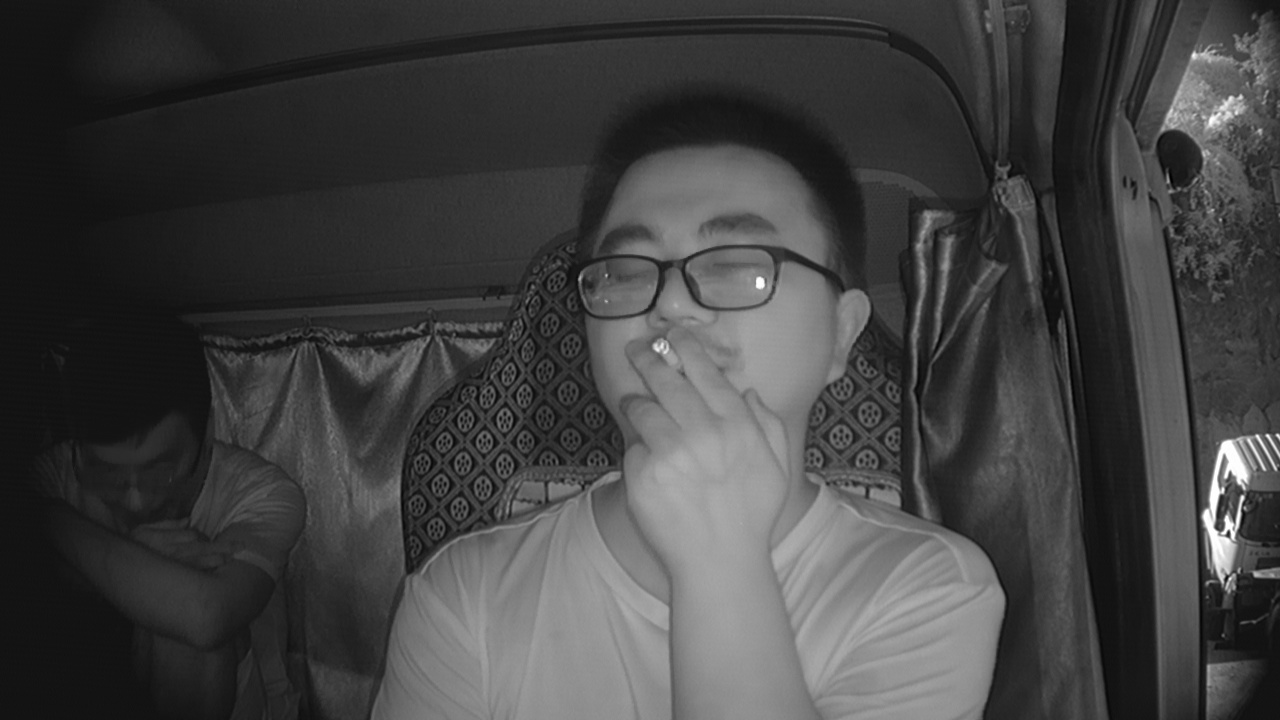hand: (609, 329, 794, 548)
